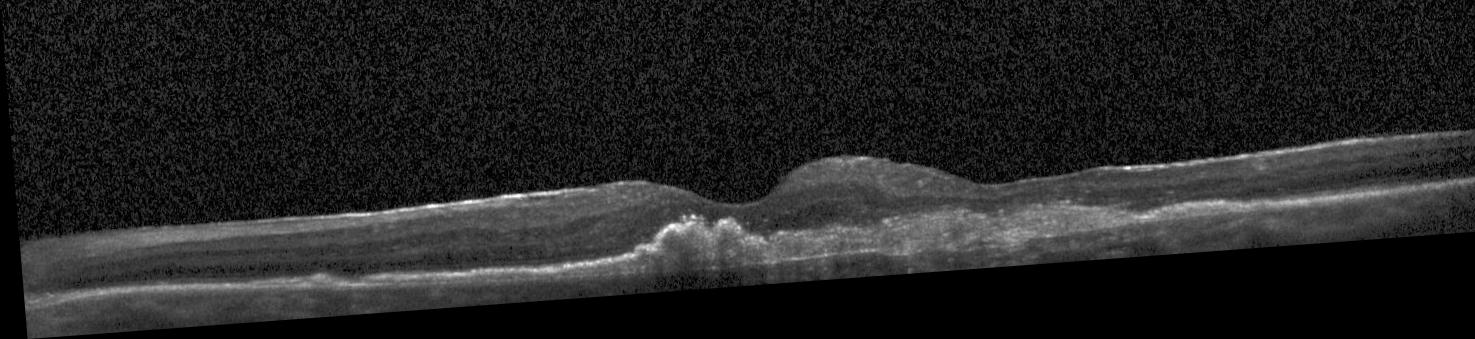retinal_drusen: (708, 237, 760, 279), (657, 238, 702, 282), (634, 264, 660, 283), (304, 280, 329, 291)
subretinal_hyperreflective_material: (764, 219, 1245, 269)
